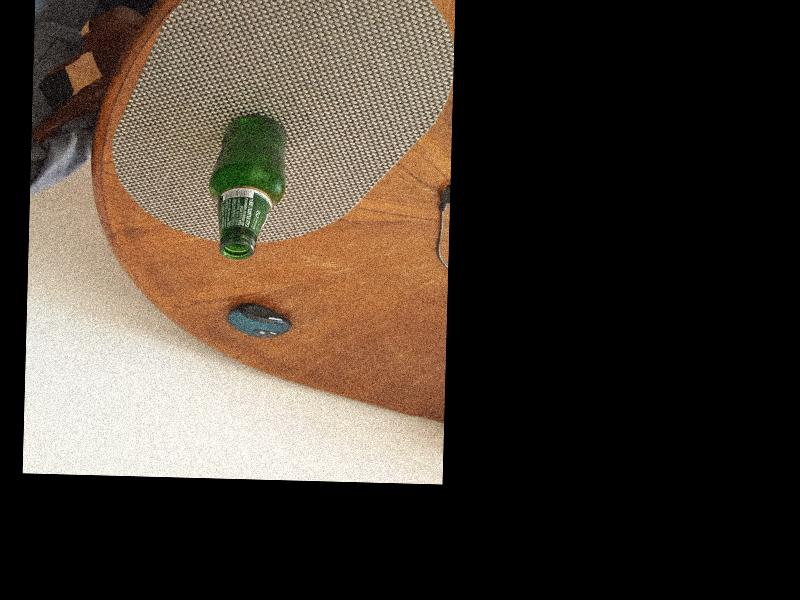Beer: (204, 113, 290, 261)
